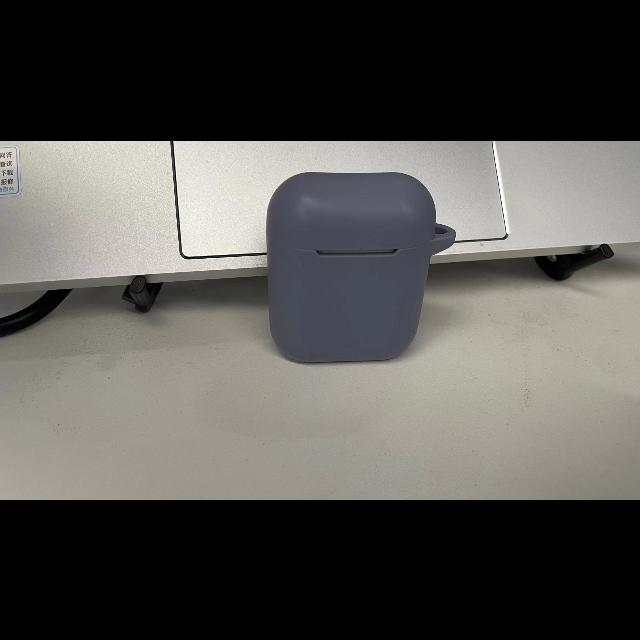airpods: (267, 171, 455, 363)
